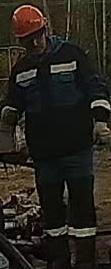gloves: (92, 112, 111, 151)
helmet: (9, 4, 46, 38)
vest: (10, 39, 96, 157)
